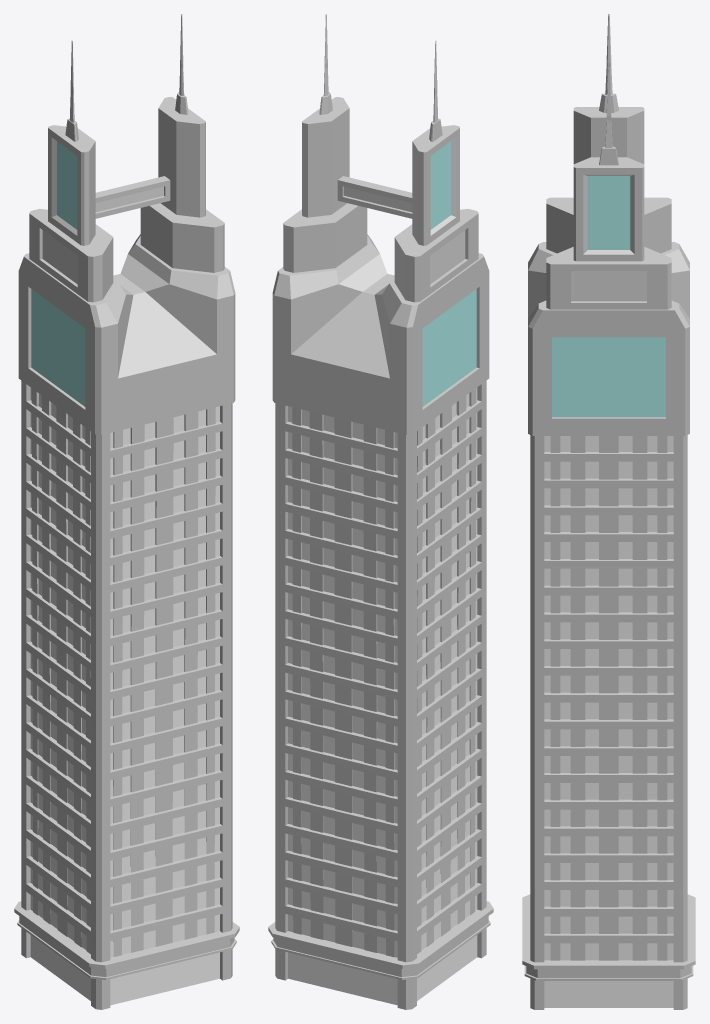
Rendered from classMain3.gltf.
The picture shows the model from 3 angles, left to right: view 1: azimuth 30°, elevation 25°; view 2: azimuth 150°, elevation 25°; view 3: azimuth 270°, elevation 25°; orthographic projection.
Visible parts, largest first — view 1: Skyscr_09_A.001; view 2: Skyscr_09_A.001; view 3: Skyscr_09_A.001.
Boxes of the visible parts, box(x1,y1,x2,y2) form: Skyscr_09_A.001: box(14, 14, 239, 1009); Skyscr_09_A.001: box(268, 14, 493, 1009); Skyscr_09_A.001: box(522, 14, 695, 1009).
Size of the model in its own units: 0.993 by 5.91 by 0.993.
